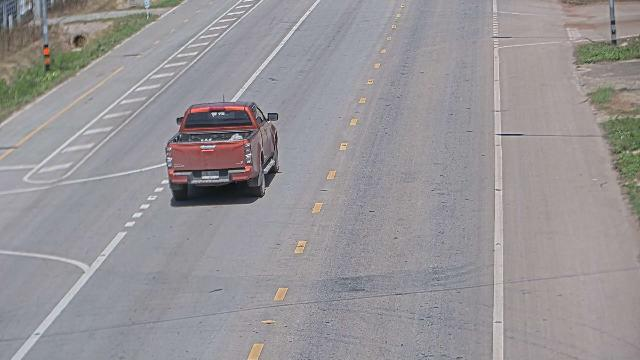pickup-truck: (164, 96, 280, 201)
